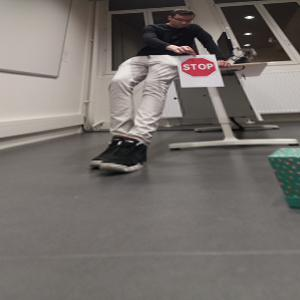stop: (180, 57, 217, 77)
